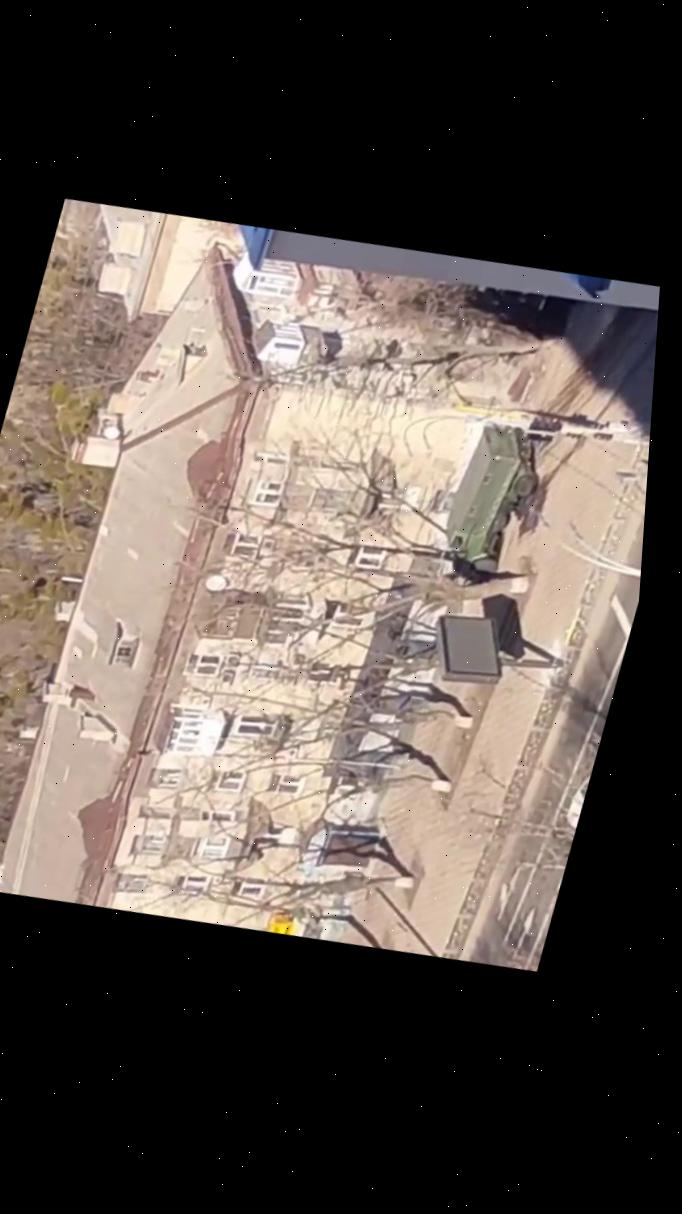car: (557, 752, 596, 846)
truck: (428, 412, 552, 594)
